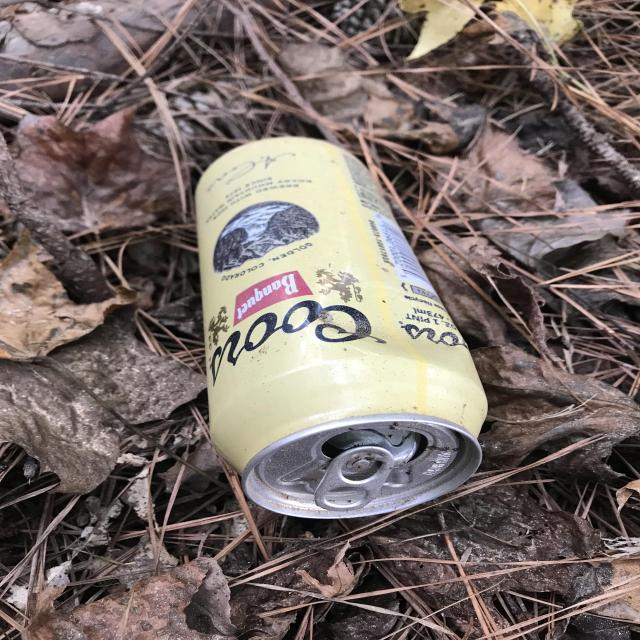litter: (199, 138, 494, 519)
